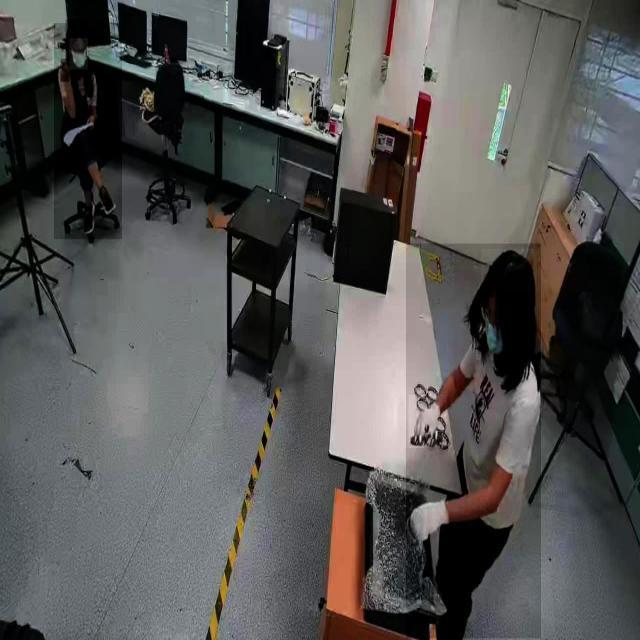boots: (96, 179, 119, 218), (82, 196, 98, 240)
gloves: (408, 484, 451, 562), (408, 395, 446, 448)
